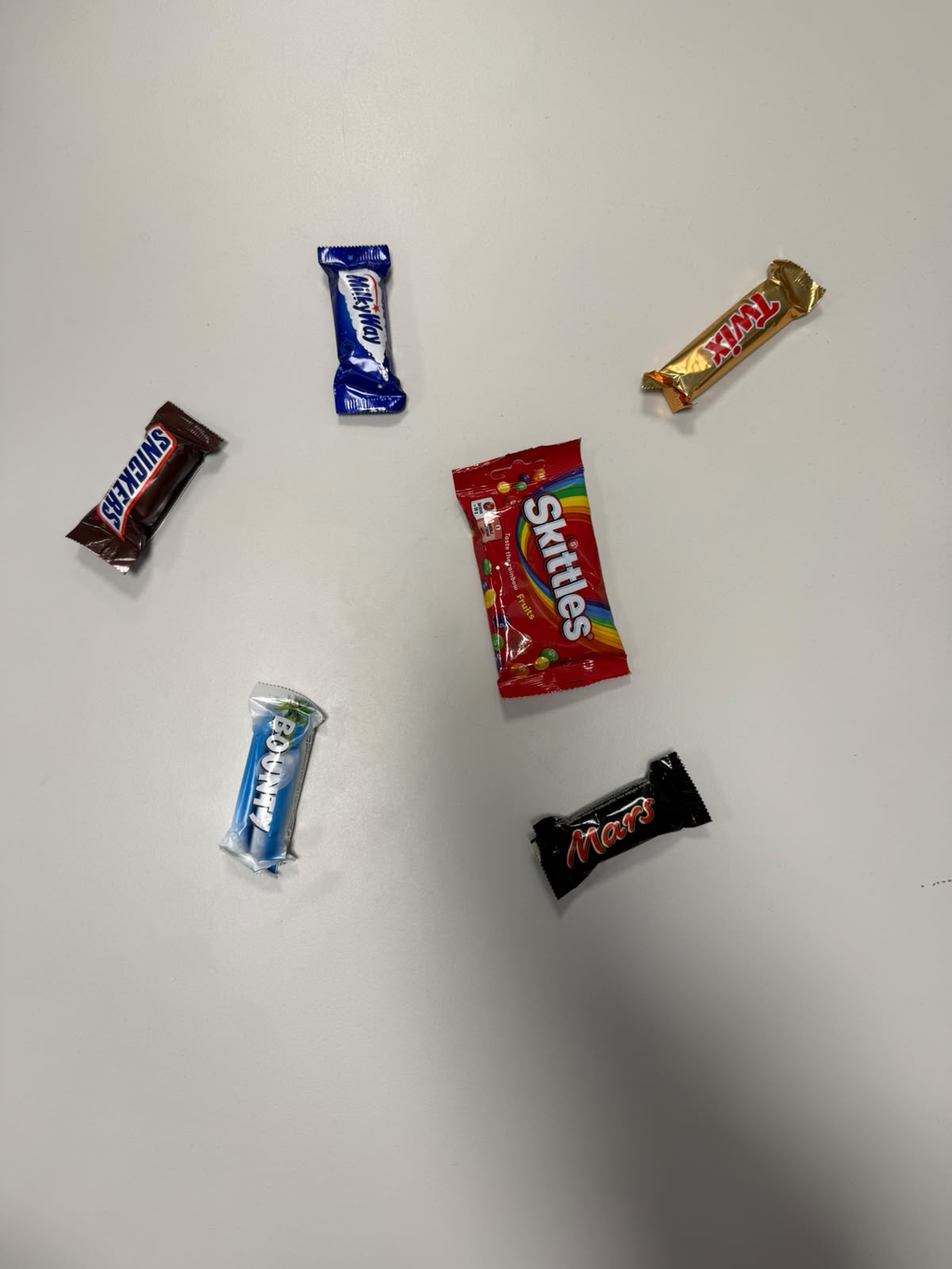Bounty: (254, 661, 358, 877)
Mars: (510, 824, 710, 920)
MilkyWay: (304, 238, 410, 421)
Skittles: (431, 466, 584, 721)
Snickers: (186, 371, 260, 607)
Twix: (623, 385, 859, 453)
